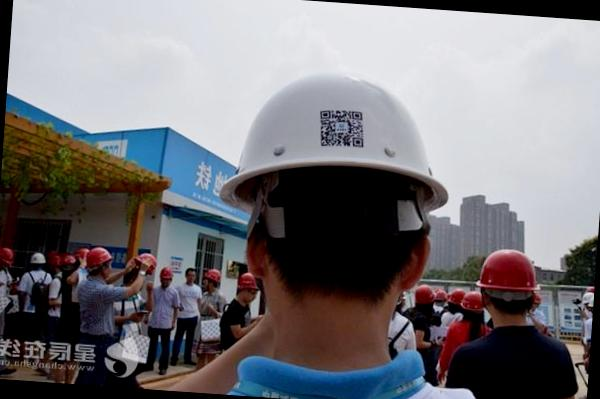helmet: (214, 54, 468, 223), (472, 237, 550, 304), (78, 241, 118, 274), (27, 249, 52, 271), (201, 265, 226, 287)
person: (72, 241, 130, 377)
